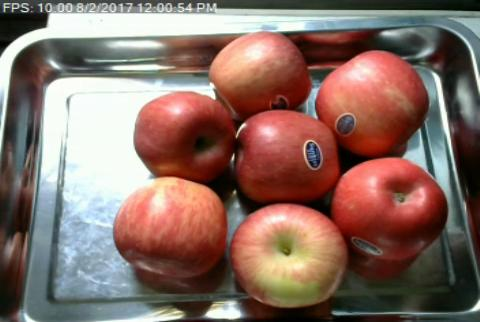apple: (230, 204, 349, 306), (112, 176, 226, 279), (333, 156, 447, 258), (316, 51, 430, 149), (234, 111, 340, 200), (132, 90, 234, 178), (208, 31, 313, 109)
